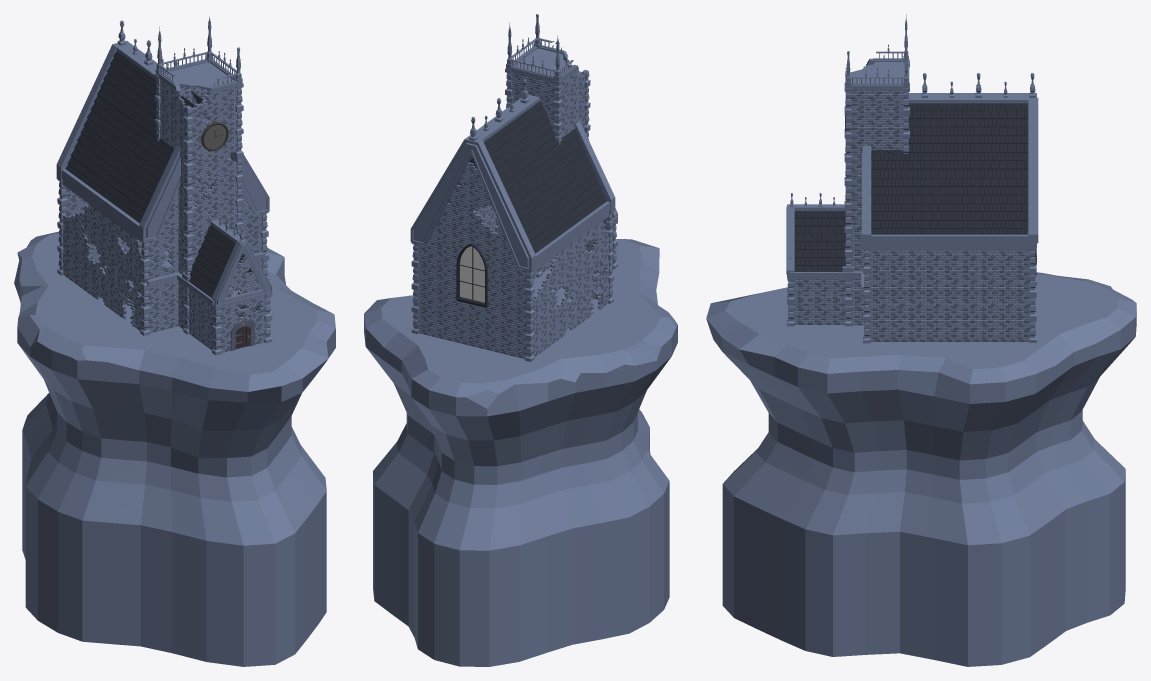
Rendered from chruch_model2.fbx.
3 views of the same model, side by side, from view 1: azimuth 30°, elevation 25°; view 2: azimuth 150°, elevation 25°; view 3: azimuth 270°, elevation 25° (orthographic). The views are drawn at different scales.
Visible parts, largest first — view 1: Circle, Cube.037, Cube.034, Cube, brick wall.053, brick wall.069, brick wall.090, brick wall.048, Cube.004, Cube.033, brick wall.062, brick wall.088 (+21 smaller); view 2: Circle, Cube.037, Cube.033, brick wall.086, brick wall.084, brick wall.164, brick wall.085, brick wall.087, brick wall.165, Plane.001, brick wall.048, brick wall.091 (+14 smaller); view 3: Circle, Cube.036, Cube.006, brick wall.051, brick wall.049, brick wall.050, brick wall.057, brick wall.059, brick wall.089, brick wall.058, Cube.041, Cube.033 (+8 smaller).
Boxes of the visible parts, x1,y1,x2,y2 form: Circle: (14, 231, 335, 666); Cube.037: (65, 51, 194, 223); Cube.034: (139, 103, 269, 242); Cube: (188, 225, 235, 297); brick wall.053: (191, 179, 237, 236); brick wall.069: (191, 131, 237, 185); brick wall.090: (191, 87, 237, 141); brick wall.048: (62, 227, 91, 293); Cube.004: (212, 239, 272, 306); Cube.033: (56, 40, 130, 181); brick wall.062: (89, 205, 116, 265); brick wall.088: (159, 79, 187, 139); Circle: (364, 239, 677, 666); Cube.037: (483, 101, 606, 253); Cube.033: (410, 136, 535, 271); brick wall.086: (417, 310, 526, 358); brick wall.084: (417, 287, 527, 336); brick wall.164: (447, 203, 498, 261); brick wall.085: (417, 265, 526, 313); brick wall.087: (417, 244, 526, 290); brick wall.165: (450, 162, 491, 210); Plane.001: (460, 246, 484, 302); brick wall.048: (532, 294, 557, 356); brick wall.091: (511, 72, 555, 124); Circle: (706, 272, 1136, 666); Cube.036: (871, 103, 1028, 234); Cube.006: (794, 211, 846, 271); brick wall.051: (922, 294, 976, 341); brick wall.049: (976, 294, 1030, 341); brick wall.050: (869, 294, 922, 341); brick wall.057: (922, 251, 976, 294); brick wall.059: (976, 248, 1030, 294); brick wall.089: (850, 90, 903, 134); brick wall.058: (869, 249, 922, 294); Cube.041: (871, 234, 1028, 245); Cube.033: (1028, 93, 1038, 248).
Size of the model in its own units: 3688 by 7454 by 5017.
